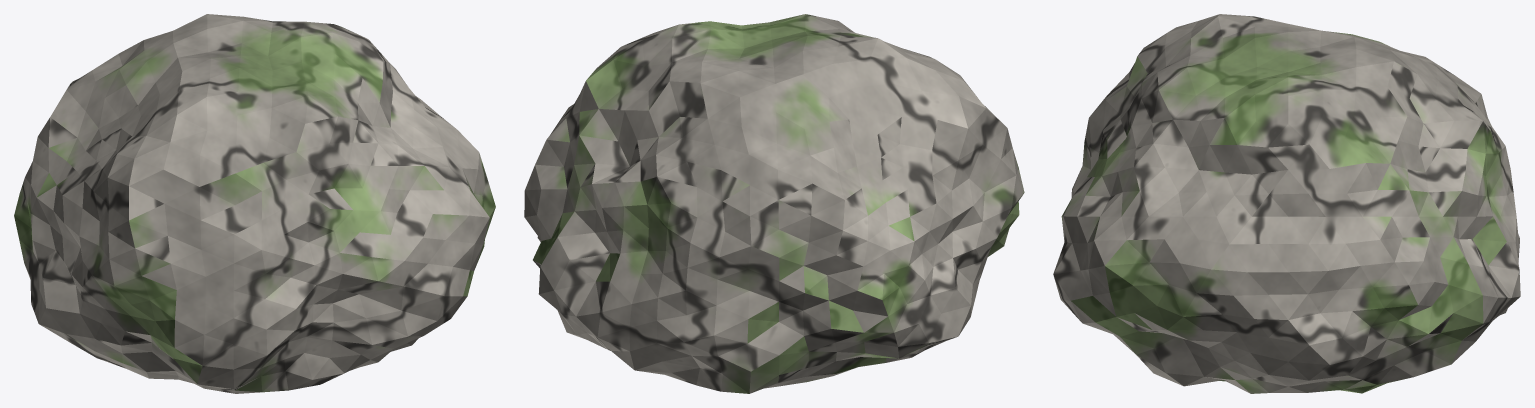
The model's file is Boulder_LOD1.fbx.
The picture shows the model from 3 angles, left to right: view 1: azimuth 30°, elevation 25°; view 2: azimuth 150°, elevation 25°; view 3: azimuth 270°, elevation 25°; orthographic projection. The views are drawn at different scales.
Visible parts, largest first — view 1: Boulder_LOD1; view 2: Boulder_LOD1; view 3: Boulder_LOD1.
Part boxes in pixels (x1,y1,x2,y2): Boulder_LOD1: (14,14,495,393); Boulder_LOD1: (524,14,1024,393); Boulder_LOD1: (1053,14,1520,393).
Size of the model in its own units: 1.07 by 0.6896 by 1.05.
Materials: 1 (1 with a texture image).
